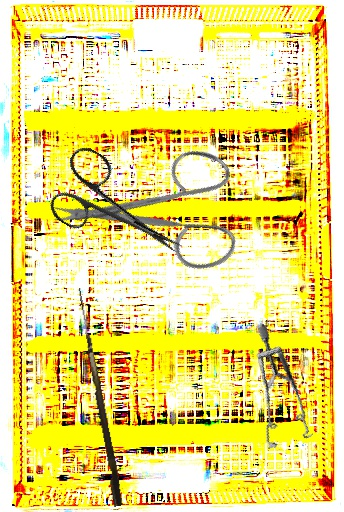Hook Surgical: (68, 288, 127, 507)
Iris Scissors: (45, 103, 274, 331), (39, 142, 202, 282)
Speculum: (222, 323, 342, 461)
